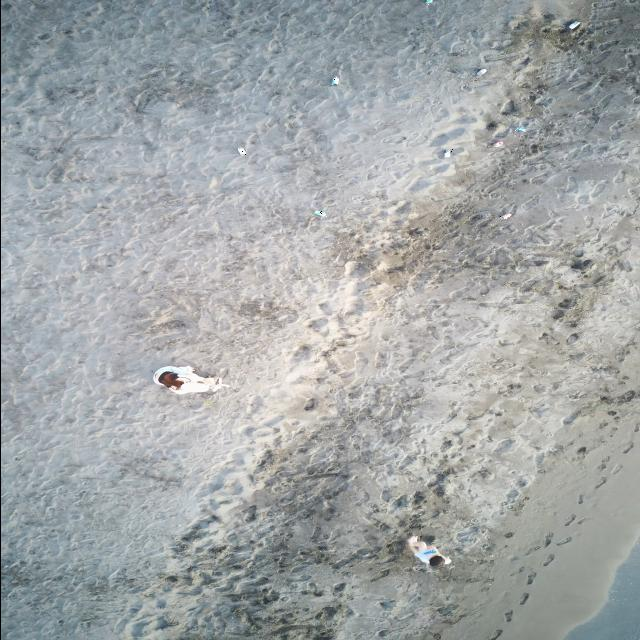Garbage: (152, 366, 227, 392), (407, 535, 449, 566), (500, 99, 515, 114), (567, 20, 580, 30), (475, 68, 487, 75), (500, 212, 512, 219), (513, 125, 526, 131), (313, 209, 324, 216), (492, 140, 503, 147), (443, 148, 452, 156), (236, 147, 245, 155), (331, 75, 339, 84), (424, 0, 432, 3)
